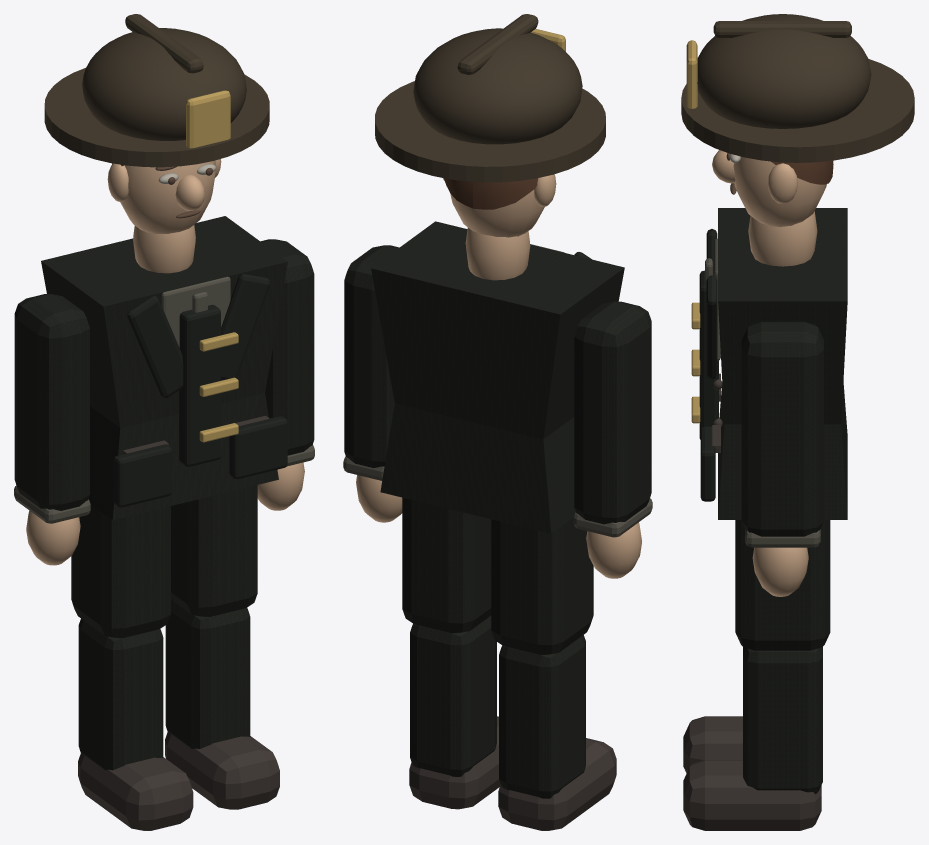
Rendered from firefighter.glb.
3 views of the same model, side by side, from view 1: azimuth 30°, elevation 25°; view 2: azimuth 150°, elevation 25°; view 3: azimuth 270°, elevation 25° (orthographic). The views are drawn at different scales.
Parts seen in each view (by area): view 1: jacket, helmet swept brim, jacket sleeve, trouser upper, trouser lower, trouser lower.001, trouser upper.001, neck, jacket sleeve.001, shoe, shoe.001, helmet front shield (+4 smaller); view 2: jacket, helmet swept brim, jacket sleeve, trouser lower, trouser lower.001, trouser upper, trouser upper.001, jacket sleeve.001, neck, shoe, shoe.001, hand (+3 smaller); view 3: helmet swept brim, jacket, jacket sleeve.001, trouser lower.001, trouser upper.001, neck, shoe.001, shoe, hand.001, helmet front shield, shirt cuff.001, barbered full.
Part boxes in pixels (bbox=[...]): jacket: bbox=[41, 216, 287, 520]; helmet swept brim: bbox=[44, 14, 269, 167]; jacket sleeve: bbox=[14, 294, 89, 510]; trouser upper: bbox=[71, 504, 170, 638]; trouser lower: bbox=[78, 619, 163, 770]; trouser lower.001: bbox=[165, 600, 250, 748]; trouser upper.001: bbox=[171, 485, 257, 616]; neck: bbox=[107, 159, 221, 273]; jacket sleeve.001: bbox=[260, 239, 314, 455]; shoe: bbox=[78, 753, 193, 830]; shoe.001: bbox=[165, 732, 279, 809]; helmet front shield: bbox=[186, 90, 238, 442]; jacket: bbox=[371, 221, 624, 533]; helmet swept brim: bbox=[375, 14, 605, 182]; jacket sleeve: bbox=[574, 301, 651, 524]; trouser lower: bbox=[499, 635, 585, 798]; trouser lower.001: bbox=[410, 616, 496, 776]; trouser upper: bbox=[491, 517, 593, 654]; trouser upper.001: bbox=[402, 497, 491, 633]; jacket sleeve.001: bbox=[344, 245, 399, 467]; neck: bbox=[443, 174, 556, 280]; shoe: bbox=[498, 738, 616, 830]; shoe.001: bbox=[409, 716, 500, 809]; hand: bbox=[586, 522, 641, 578]; helmet swept brim: bbox=[681, 14, 914, 162]; jacket: bbox=[699, 208, 847, 519]; jacket sleeve.001: bbox=[741, 321, 823, 536]; trouser lower.001: bbox=[743, 647, 822, 793]; trouser upper.001: bbox=[735, 520, 830, 650]; neck: bbox=[712, 150, 826, 266]; shoe.001: bbox=[683, 760, 821, 830]; shoe: bbox=[683, 716, 742, 772]; hand.001: bbox=[752, 547, 808, 596]; helmet front shield: bbox=[686, 40, 700, 423]; shirt cuff.001: bbox=[745, 529, 820, 547]; barbered full: bbox=[771, 160, 833, 184].
Bounding box in the file's own units: 0.76 × 1.99 × 0.54.
Materials: 10 (1 with a texture image).
